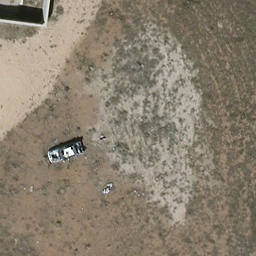car: (46, 137, 86, 165)
